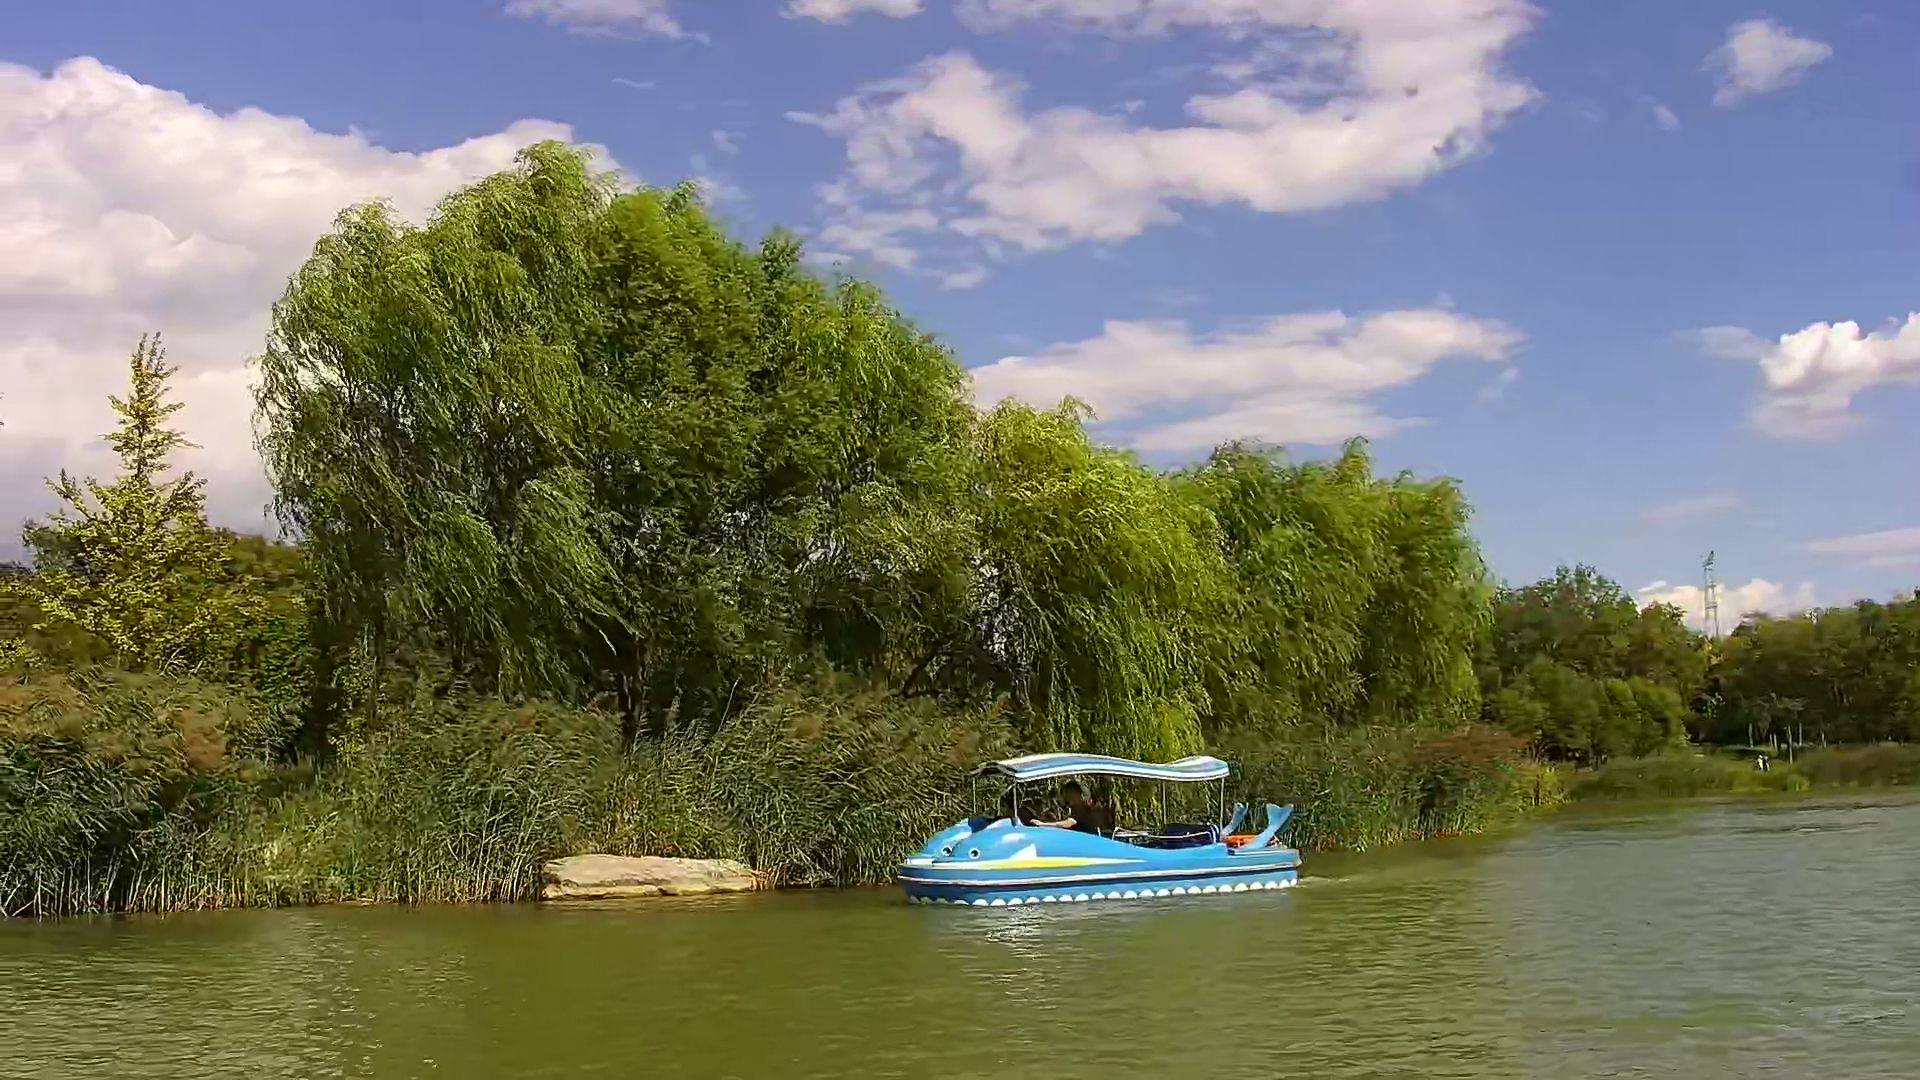boat: (895, 751, 1300, 908)
person: (1049, 783, 1097, 836)
rock: (539, 853, 758, 906)
